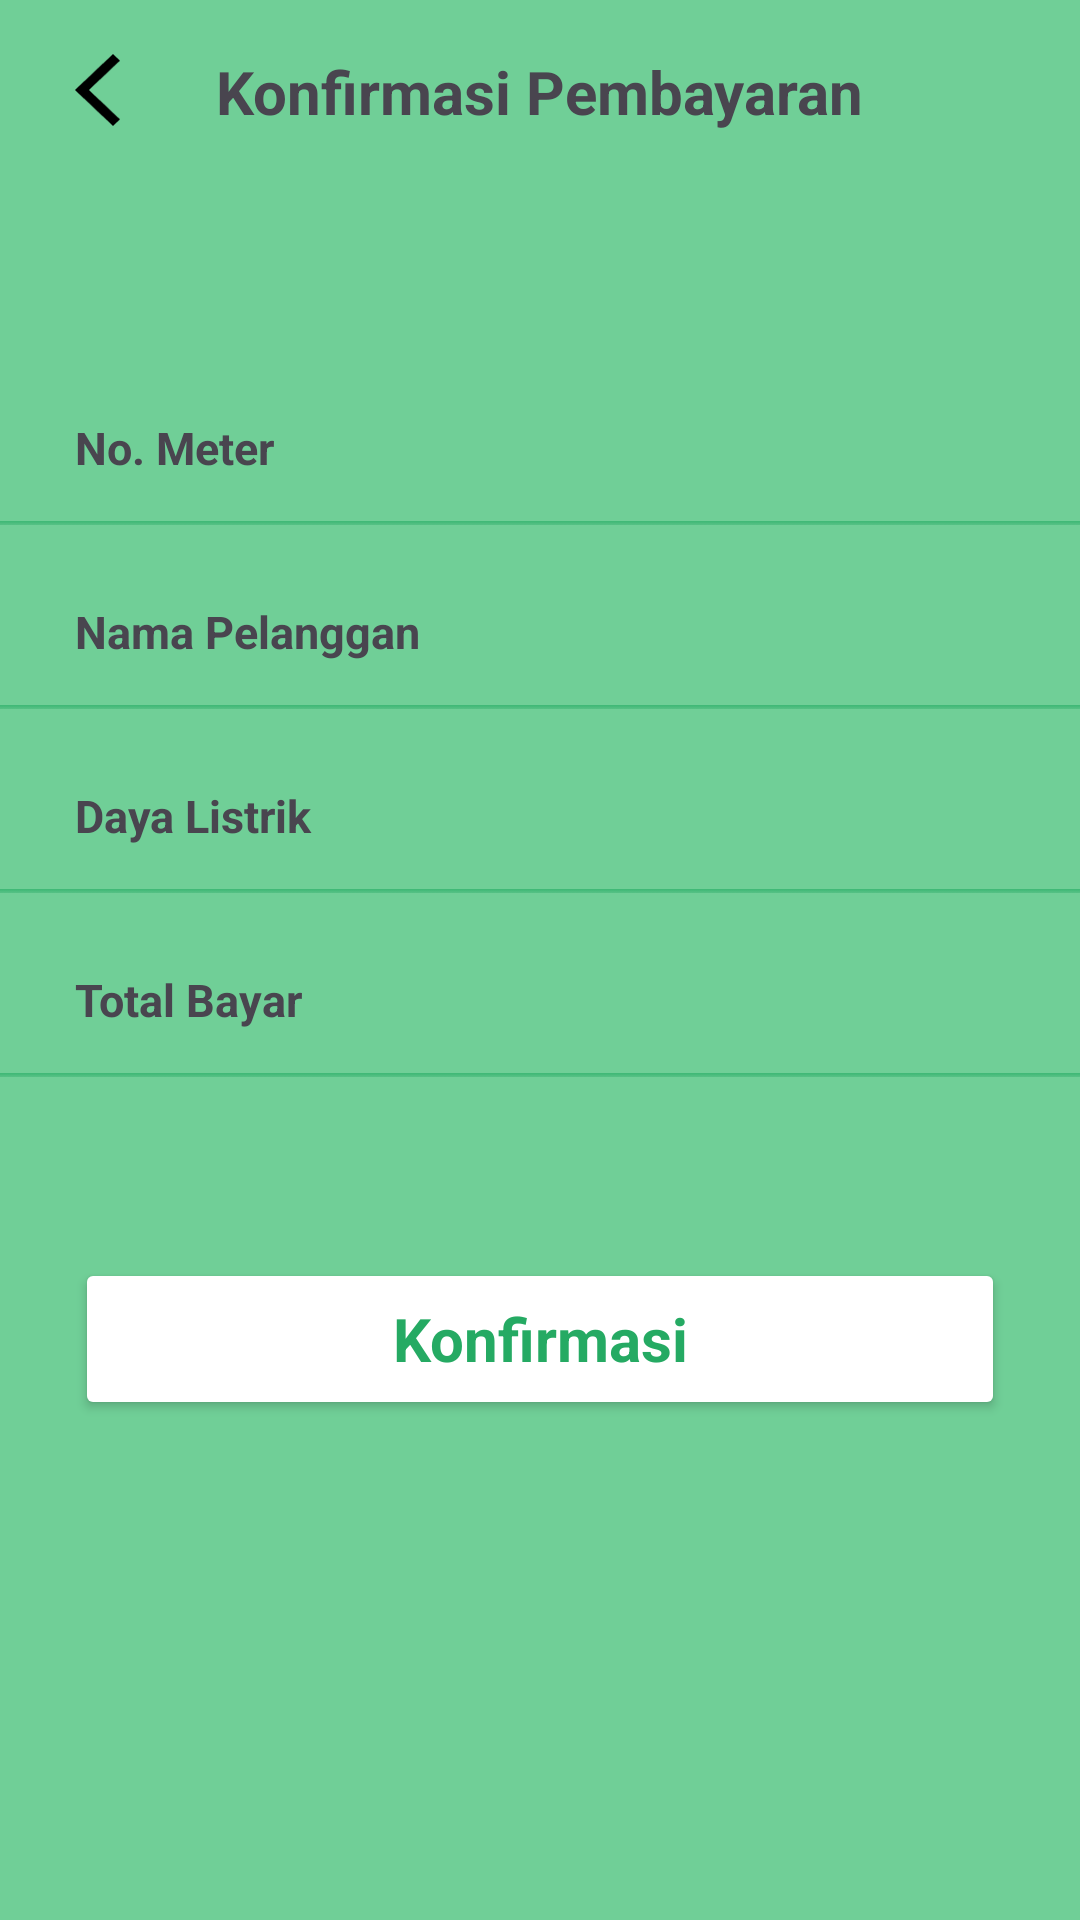

Named icons in this screenshot (1080px×1920px) and their centers, [x,y]:
iconback: [97,90]
